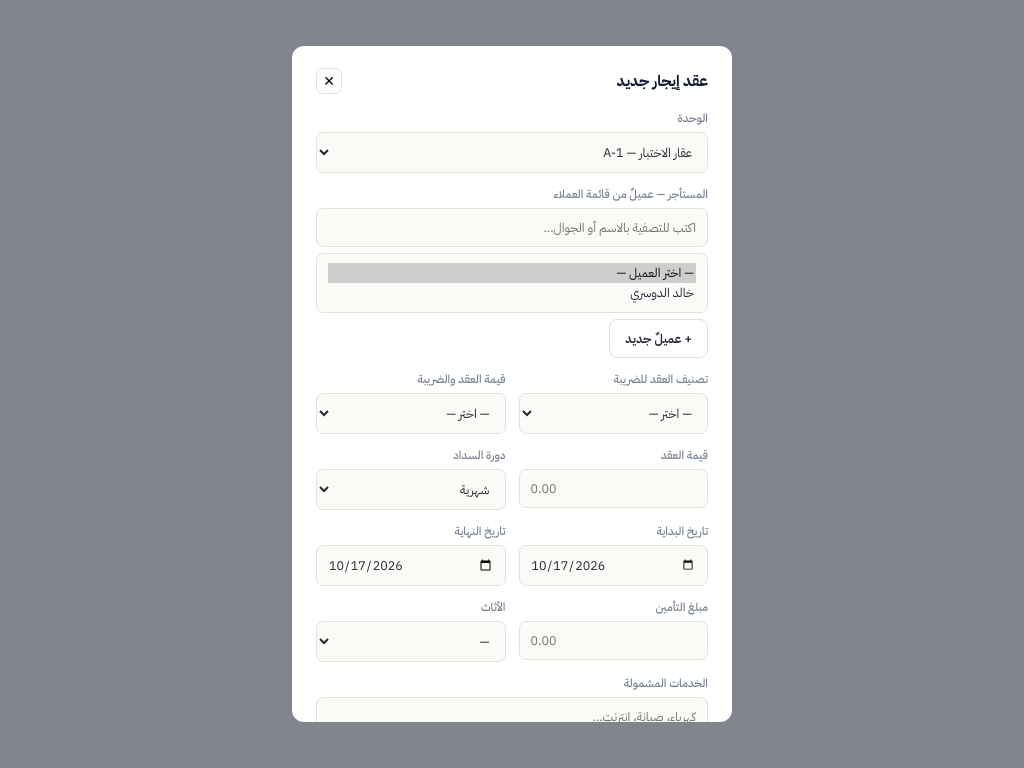
Test case: نموذجُ العقد — منتقي العميل › ③ «عميلٌ جديد»: تنبيهُ «أهو نفسُه؟» يُعرض ولا يُفترض، والتأكيدُ يعيد الطلبَ بعلَمه ثم يختار المُنشأ
Click the button "+ عميلٌ جديد": x=659, y=339 609,319 -> 708,358
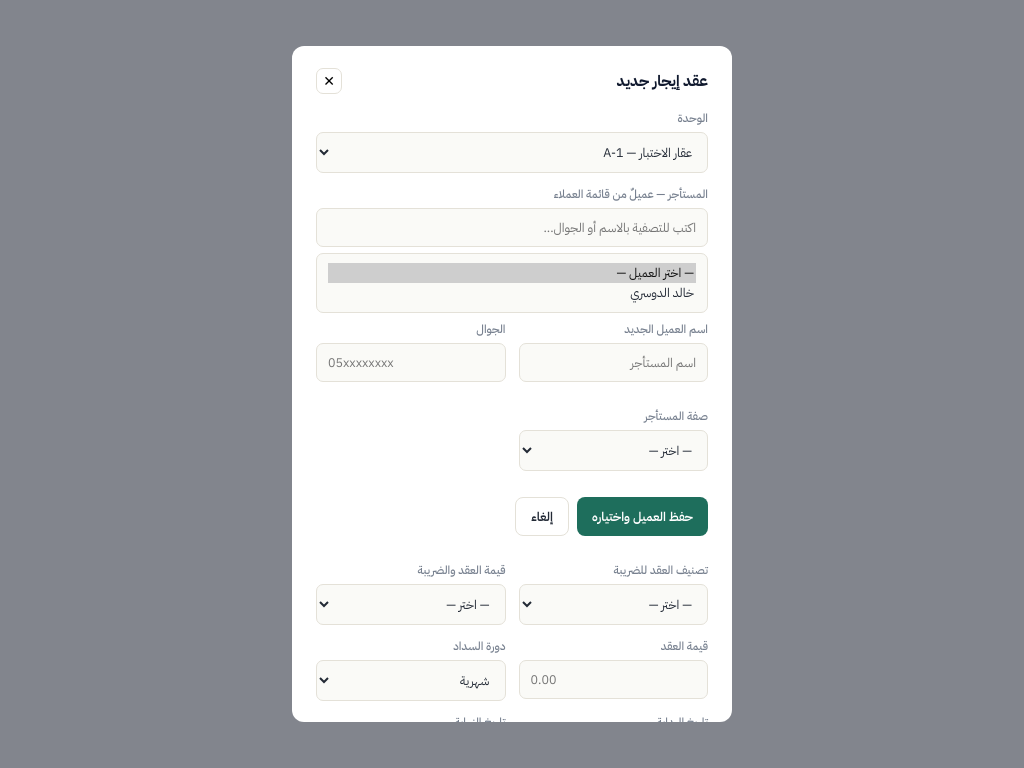
In the field with placeholder "اسم المستأجر": x=613, y=363 518,343 -> 708,382, type "خالد الدوسري"
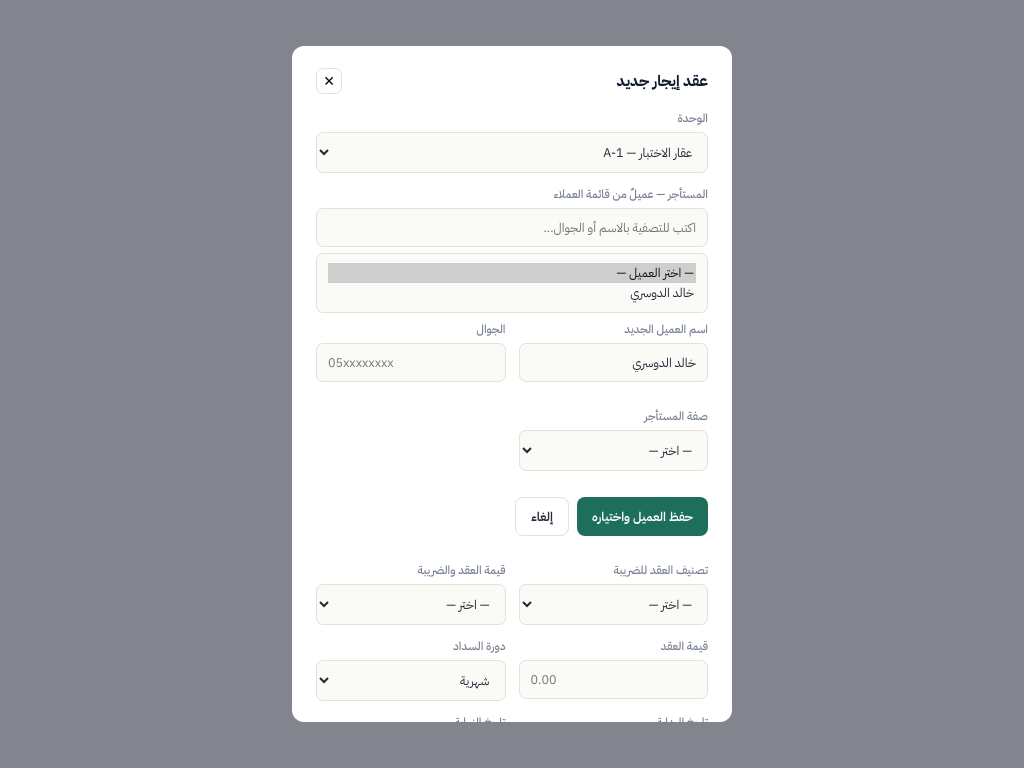
# ②A1: بلا صفةٍ لا يُرسَل شيء — الشاشةُ تسأل، والخادمُ يرفض؛ ثم تُختار فيمضي.
Click the button "حفظ العميل واختياره": x=642, y=517 577,497 -> 708,536
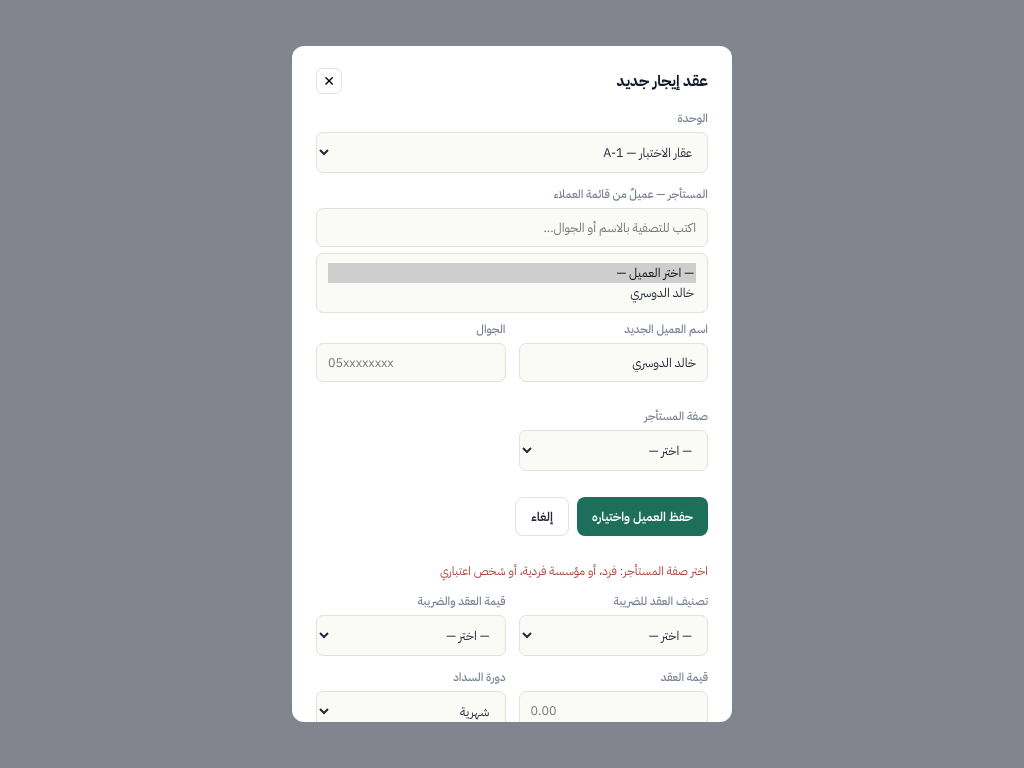
Select "فرد" in the dropdown labelled "صفة المستأجر": x=613, y=451 518,430 -> 708,471
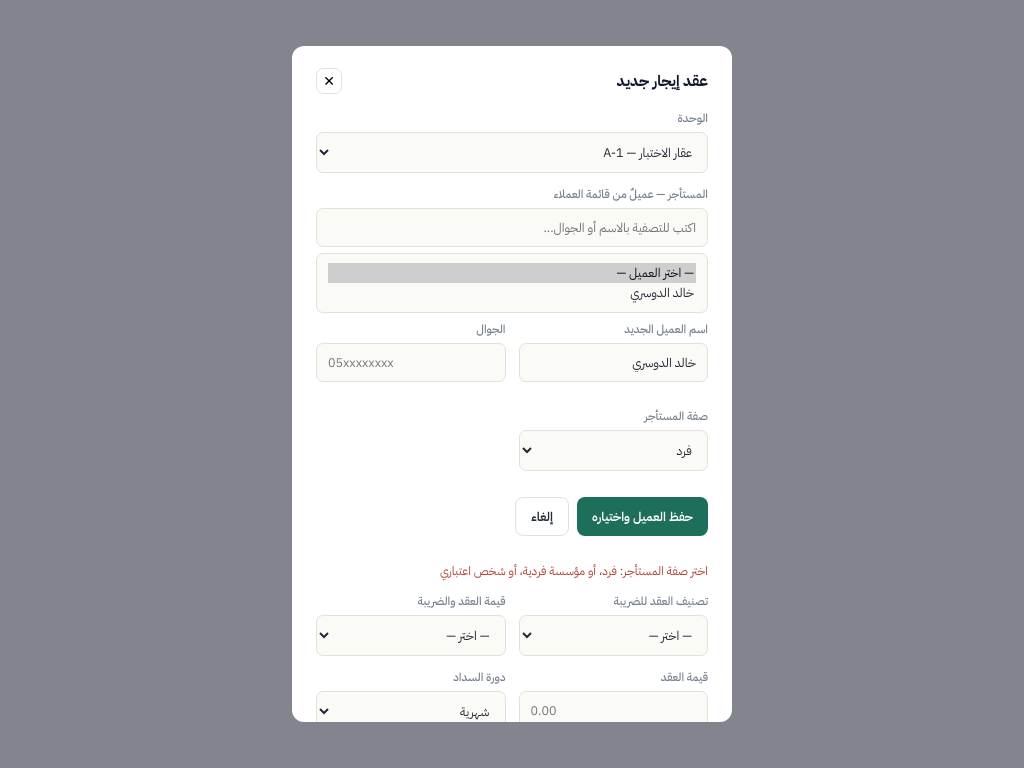
Click the button "حفظ العميل واختياره": x=642, y=517 577,497 -> 708,536
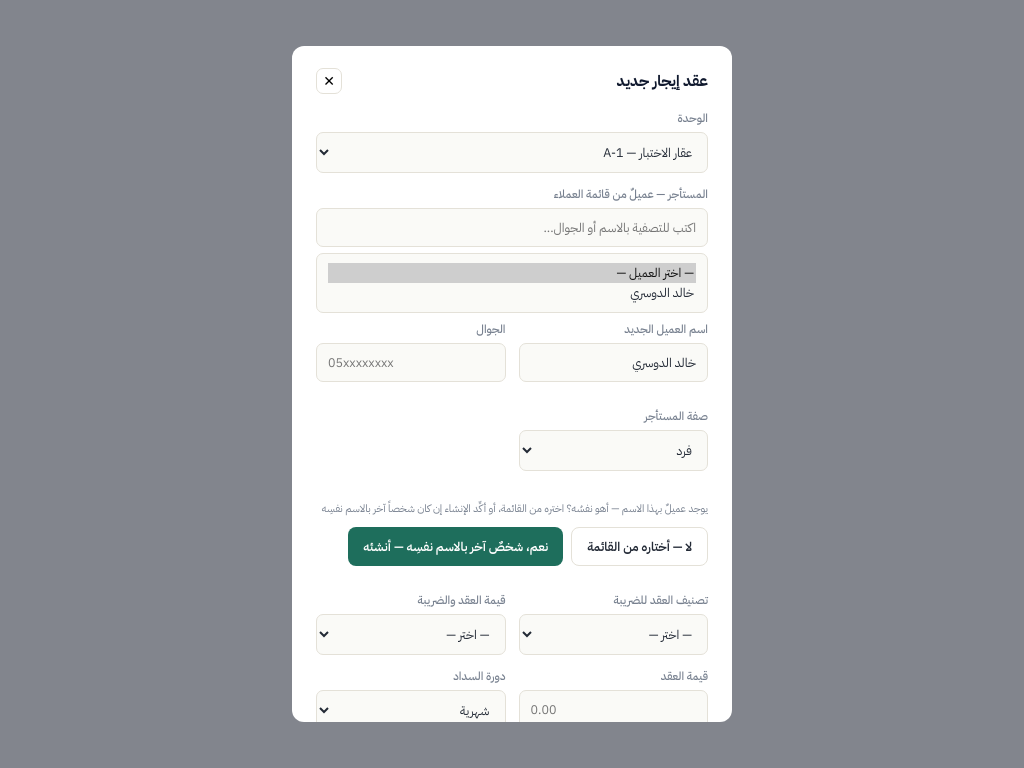
Now the text "أهو نفسُه" is shown, box 322,501 -> 708,516
Click the button "نعم، شخصٌ آخر بالاسم نفسِه — أنشئه": x=456, y=546 348,527 -> 563,566
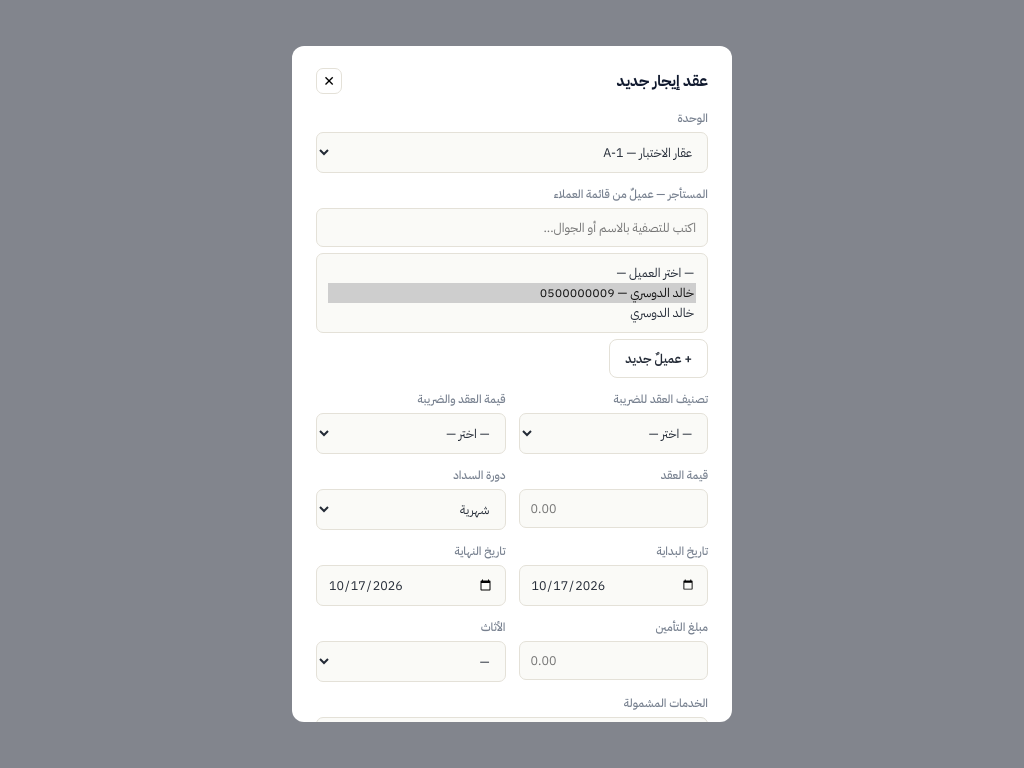
Now the dropdown below "المستأجر — عميلٌ من قائمة العملاء" shows "خالد الدوسري — 0500000009", box 316,253 -> 708,333
